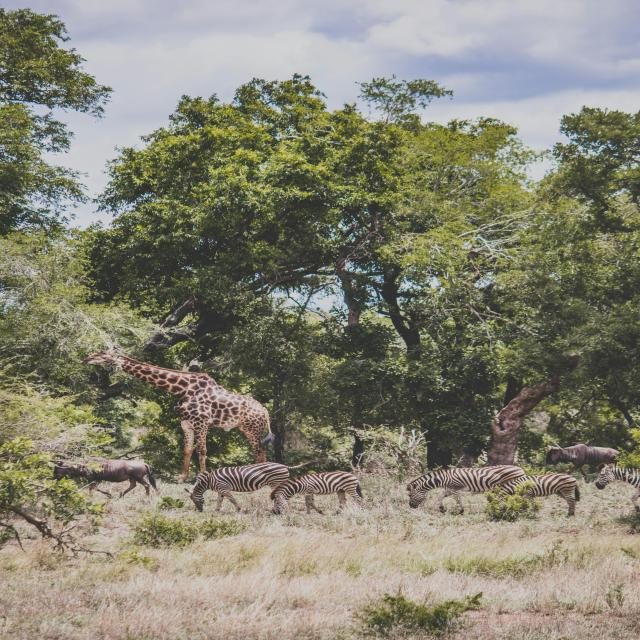Giraffe: (81, 345, 276, 485)
Zebra: (184, 458, 325, 512), (406, 465, 527, 515), (271, 470, 368, 516), (486, 473, 580, 517), (595, 461, 640, 512)
